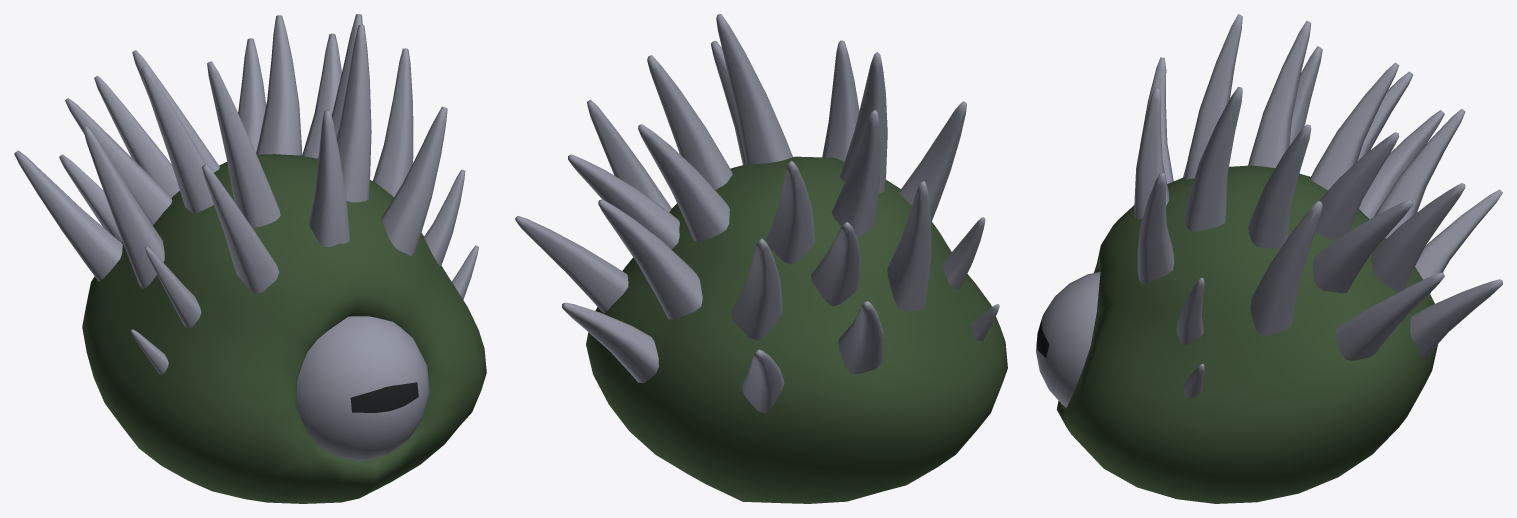
The model's file is greenspikyblob.glb.
The picture shows the model from 3 angles, left to right: view 1: azimuth 30°, elevation 25°; view 2: azimuth 150°, elevation 25°; view 3: azimuth 270°, elevation 25°; orthographic projection. The views are drawn at different scales.
Parts seen in each view (by area): view 1: GreenSpiky_Blob, GreenSpiky_Blob.002; view 2: GreenSpiky_Blob; view 3: GreenSpiky_Blob, GreenSpiky_Blob.002.
Part boxes in pixels (<box>): GreenSpiky_Blob: <box>14,14,486,503</box>; GreenSpiky_Blob.002: <box>296,316,429,461</box>; GreenSpiky_Blob: <box>515,14,1007,503</box>; GreenSpiky_Blob: <box>1056,14,1502,503</box>; GreenSpiky_Blob.002: <box>1036,271,1100,407</box>.
Size of the model in its own units: 3.5 by 4.16 by 4.09.
Materials: 1 (1 with a texture image).
